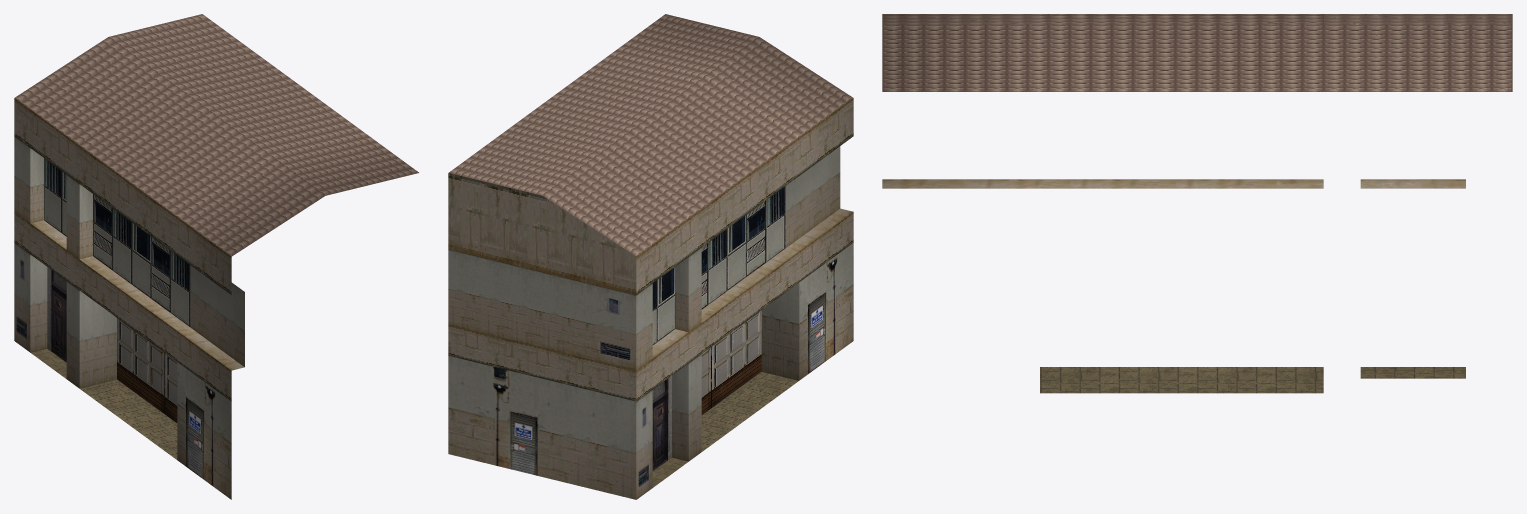
The model's file is M2Zone1_WorkShop2.glb.
3 views of the same model, side by side, from view 1: azimuth 30°, elevation 25°; view 2: azimuth 150°, elevation 25°; view 3: azimuth 270°, elevation 25° (orthographic). The views are drawn at different scales.
Parts seen in each view (by area): view 1: M2ZONE1_WORKSHOP2; view 2: M2ZONE1_WORKSHOP2; view 3: M2ZONE1_WORKSHOP2.
Boxes of the visible parts, x1,y1,x2,y2 form: M2ZONE1_WORKSHOP2: (14,14,418,499); M2ZONE1_WORKSHOP2: (448,14,853,499); M2ZONE1_WORKSHOP2: (882,14,1512,393).
Bounding box in the file's own units: 8 × 11.43 × 16.
Materials: 8 (8 with a texture image).
